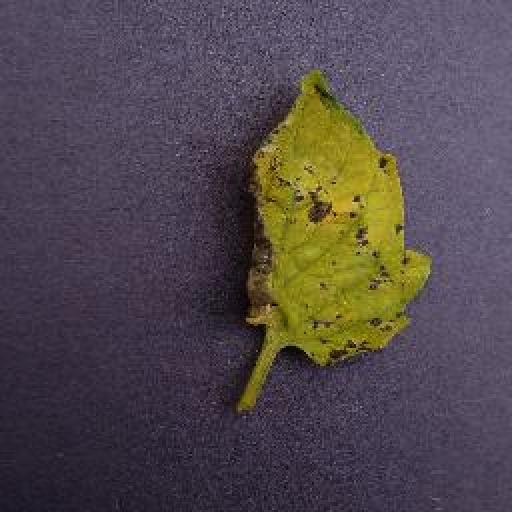disease_tomato: (238, 66, 439, 366)
